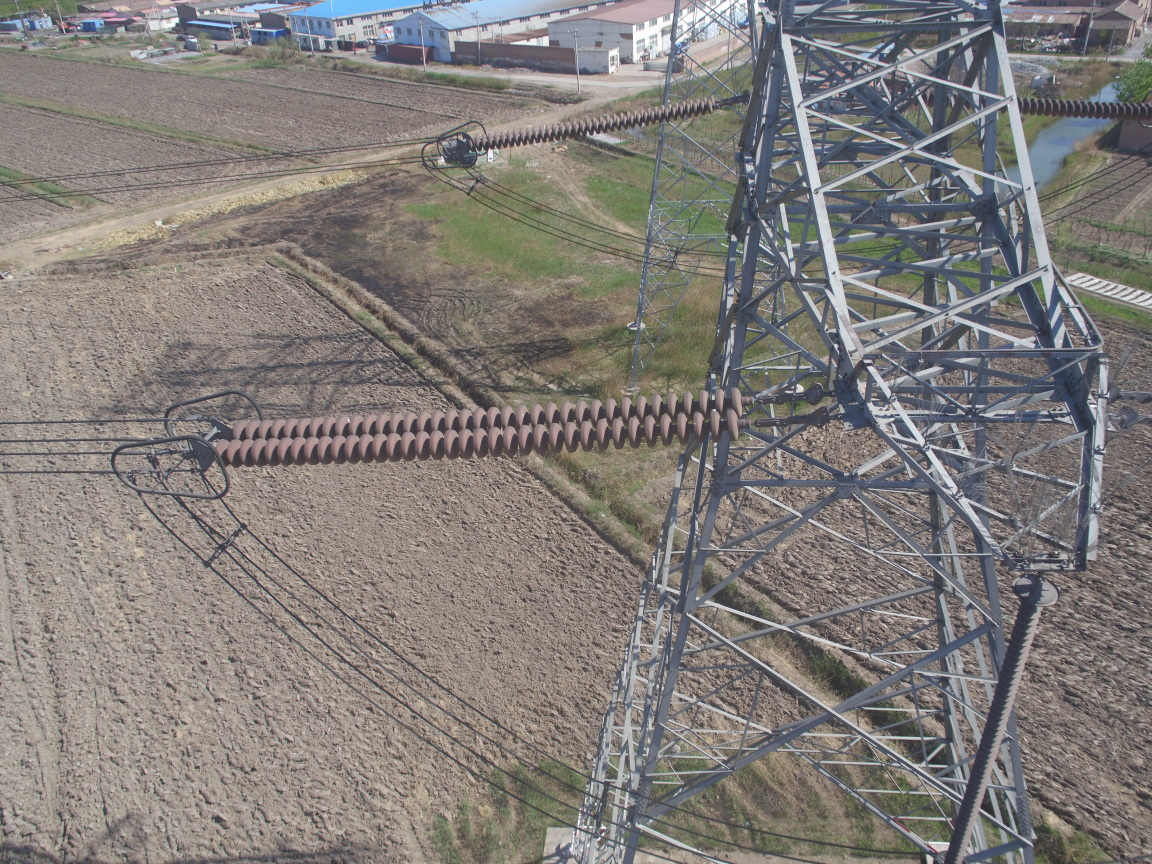insulator: (203, 384, 772, 470), (467, 93, 717, 154), (1015, 94, 1152, 125)
